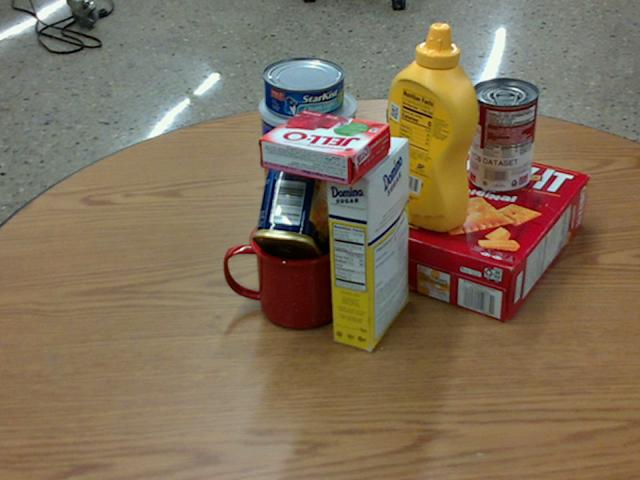cracker_box: (361, 142, 587, 321)
gelatin_box: (257, 108, 391, 186)
large_marker: (383, 105, 401, 205)
master_chef_can: (260, 83, 357, 239)
mug: (221, 211, 344, 328)
mustard_bottle: (380, 23, 478, 231)
potted_meat_can: (252, 147, 336, 266)
sugar_box: (324, 134, 407, 350)
tomato_soup_can: (467, 77, 538, 192)
tuna_fish_can: (262, 56, 344, 117)
